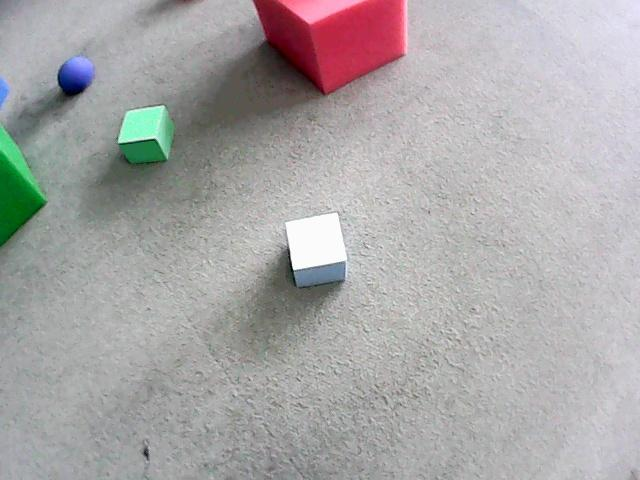blue_block: (286, 213, 347, 288), (294, 261, 346, 287), (0, 77, 9, 109)
red_block: (253, 0, 406, 93)
